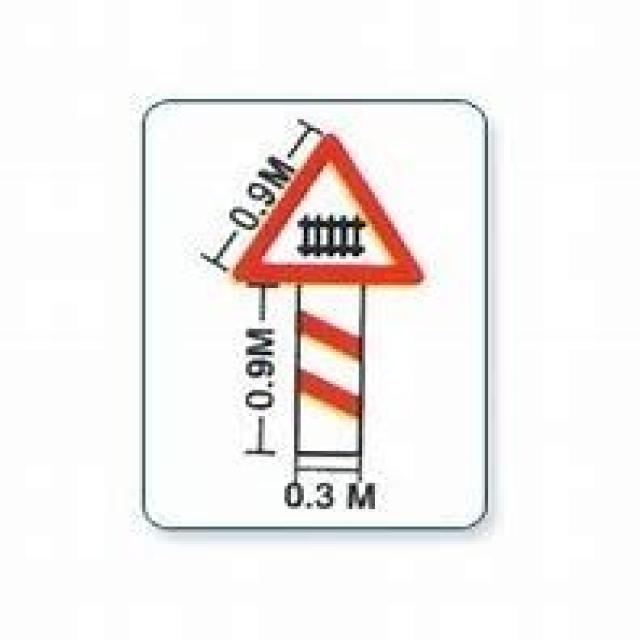GUARDED_LEVEL_CROSSING: (232, 130, 434, 459)
